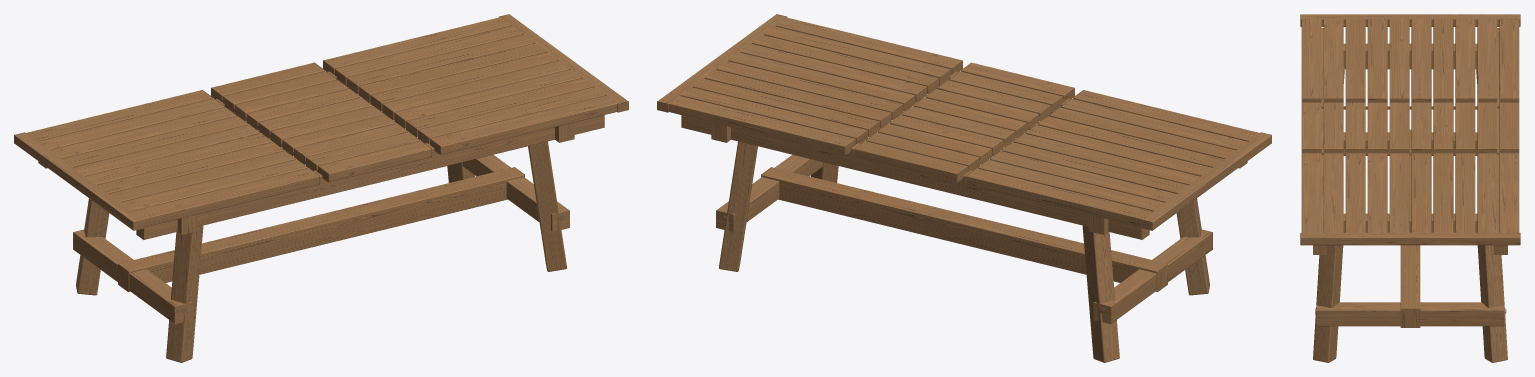
The model's file is outdoor-extendable-dining-table.glb.
3 renders of one model, left to right at view 1: azimuth 30°, elevation 25°; view 2: azimuth 150°, elevation 25°; view 3: azimuth 270°, elevation 25°, orthographic. The views are drawn at different scales.
Visible parts, largest first — view 1: outdoor-extendable-dining-table authored assembly; view 2: outdoor-extendable-dining-table authored assembly; view 3: outdoor-extendable-dining-table authored assembly.
Boxes of the visible parts, box(x1,y1,x2,y2) form: outdoor-extendable-dining-table authored assembly: box(14, 14, 628, 362); outdoor-extendable-dining-table authored assembly: box(657, 14, 1271, 362); outdoor-extendable-dining-table authored assembly: box(1300, 14, 1520, 362).
Size of the model in its own units: 2.4 by 0.75 by 1.
4 materials, 3 textured.
